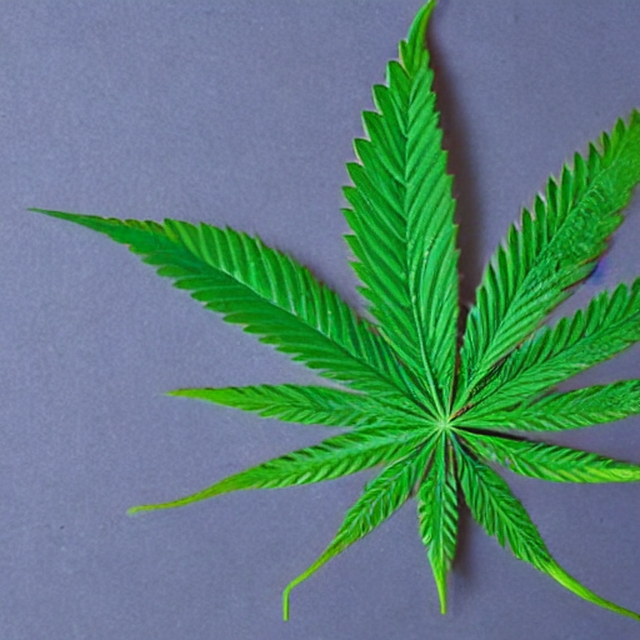Marijuana Leaf: (26, 0, 640, 631)
